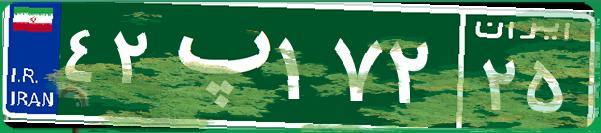1: (273, 28, 330, 110)
2: (385, 28, 445, 110), (475, 38, 525, 113), (110, 28, 158, 105)
4: (57, 26, 110, 107)
5: (525, 38, 570, 115)
7: (330, 28, 385, 110)
پ: (158, 15, 273, 115)
